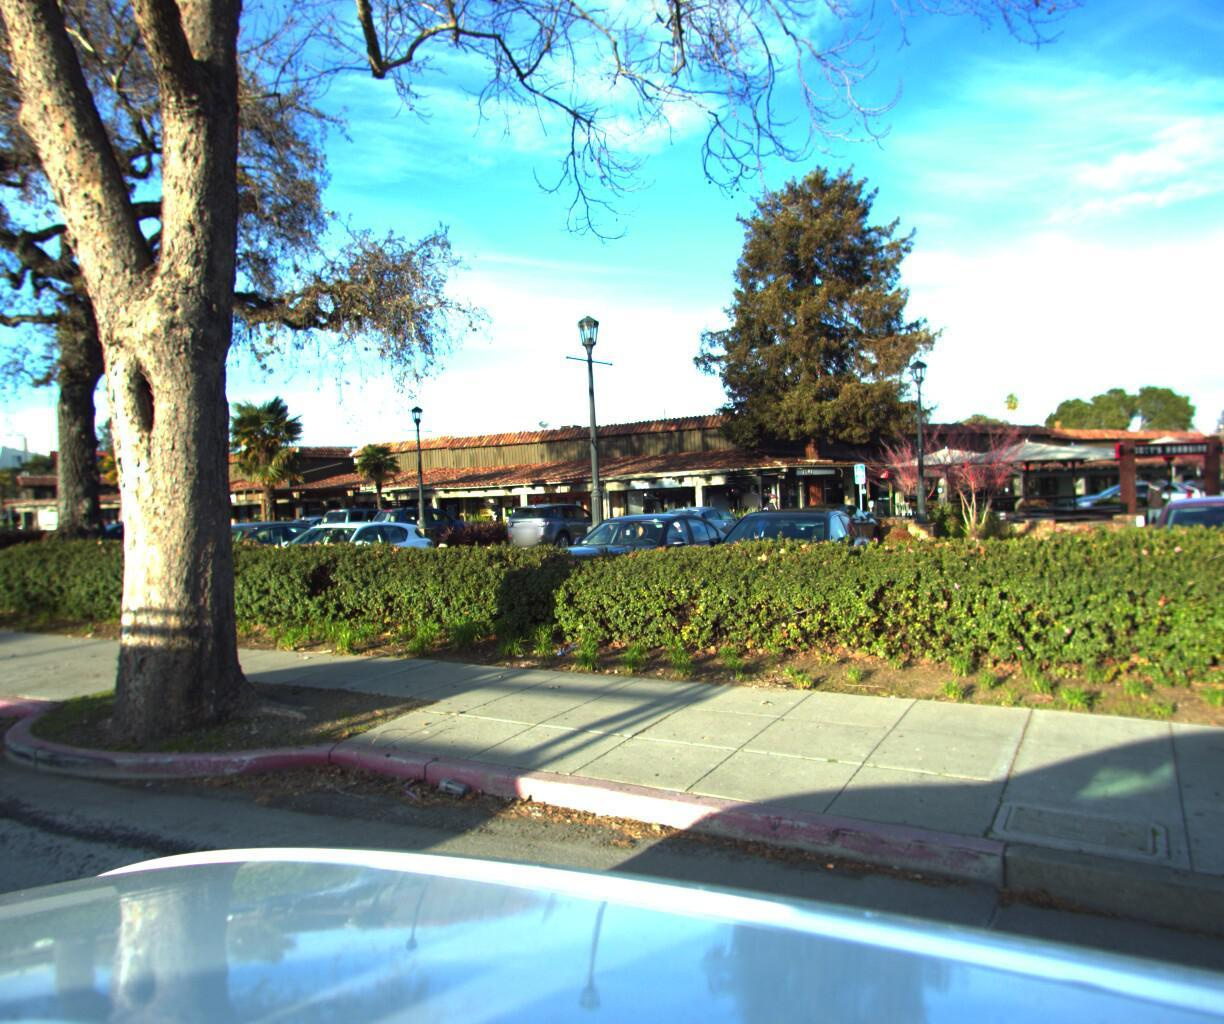car: (675, 497, 877, 634), (522, 502, 740, 622), (203, 511, 443, 613), (116, 510, 366, 607), (1134, 481, 1224, 679)
